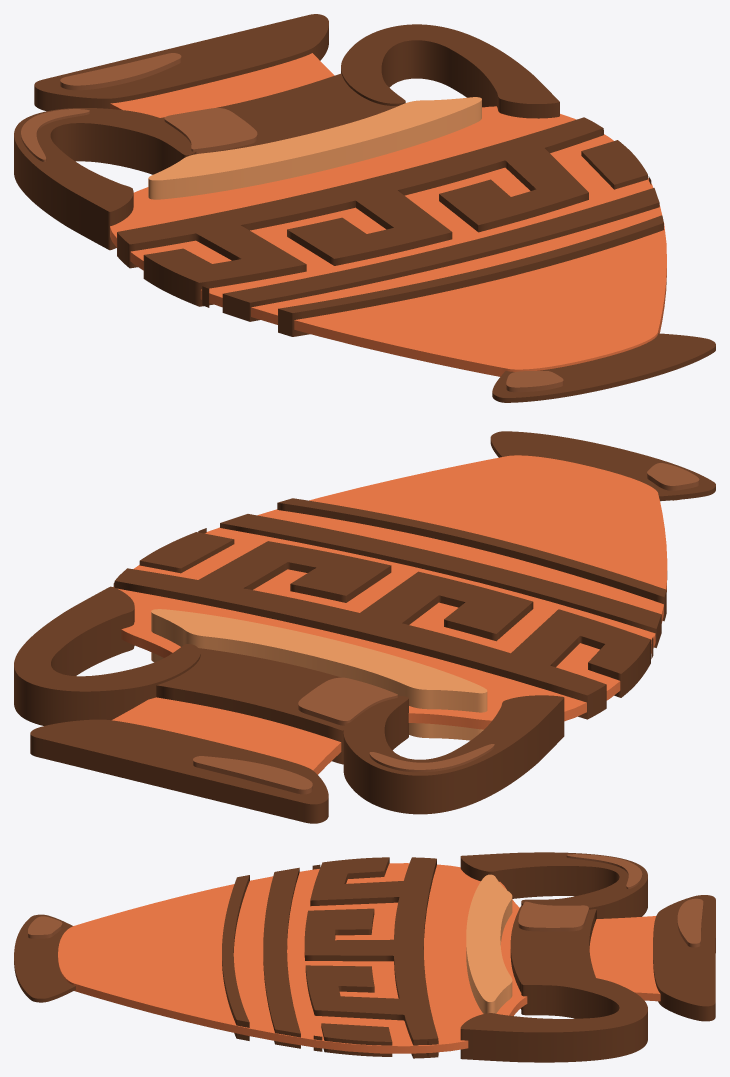
The model's file is emoji_u1f3fa.glb.
3 views of the same model, one above another, from view 1: azimuth 30°, elevation 25°; view 2: azimuth 150°, elevation 25°; view 3: azimuth 270°, elevation 25° (orthographic). The views are drawn at different scales.
Parts seen in each view (by area): view 1: emoji_u1f3fa; view 2: emoji_u1f3fa; view 3: emoji_u1f3fa.
Part boxes in pixels (<box>): emoji_u1f3fa: <box>14,14,715,402</box>; emoji_u1f3fa: <box>14,431,715,823</box>; emoji_u1f3fa: <box>14,852,715,1062</box>.
Size of the model in its own units: 0.0209 by 0.002 by 0.0338.
